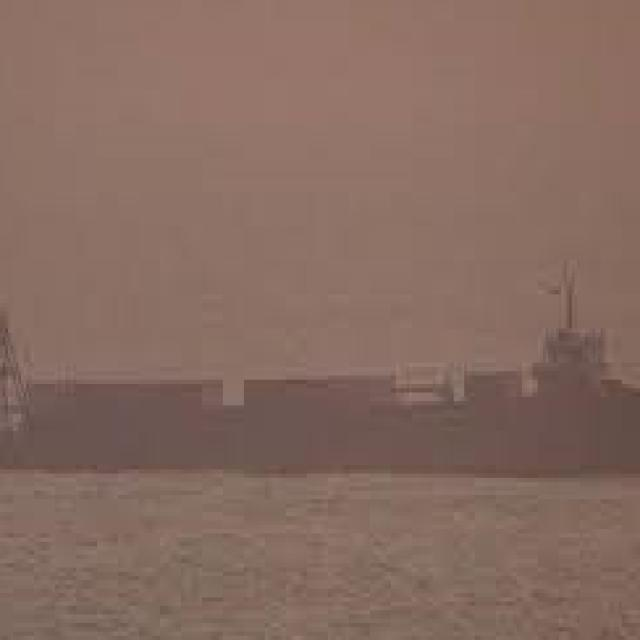cargoship: (0, 264, 640, 478)
